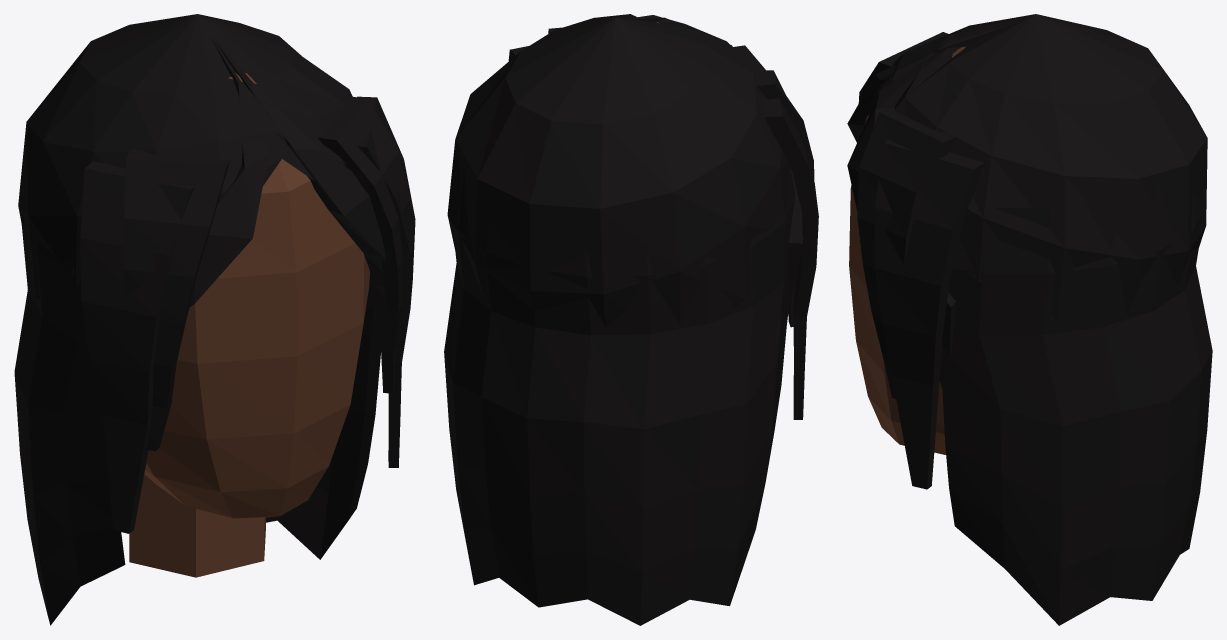
File: avatar-talking.glb
The picture shows the model from 3 angles, left to right: view 1: azimuth 30°, elevation 25°; view 2: azimuth 150°, elevation 25°; view 3: azimuth 270°, elevation 25°; orthographic projection. The views are drawn at different scales.
Parts seen in each view (by area): view 1: Hair, Skin; view 2: Hair; view 3: Hair, Skin.
Part boxes in pixels (x1,y1,x2,y2): Hair: (14,14,415,625); Skin: (129,73,369,577); Hair: (444,14,818,625); Hair: (847,14,1212,625); Skin: (849,46,965,454).
Size of the model in its own units: 0.2105 by 0.354 by 0.213.
